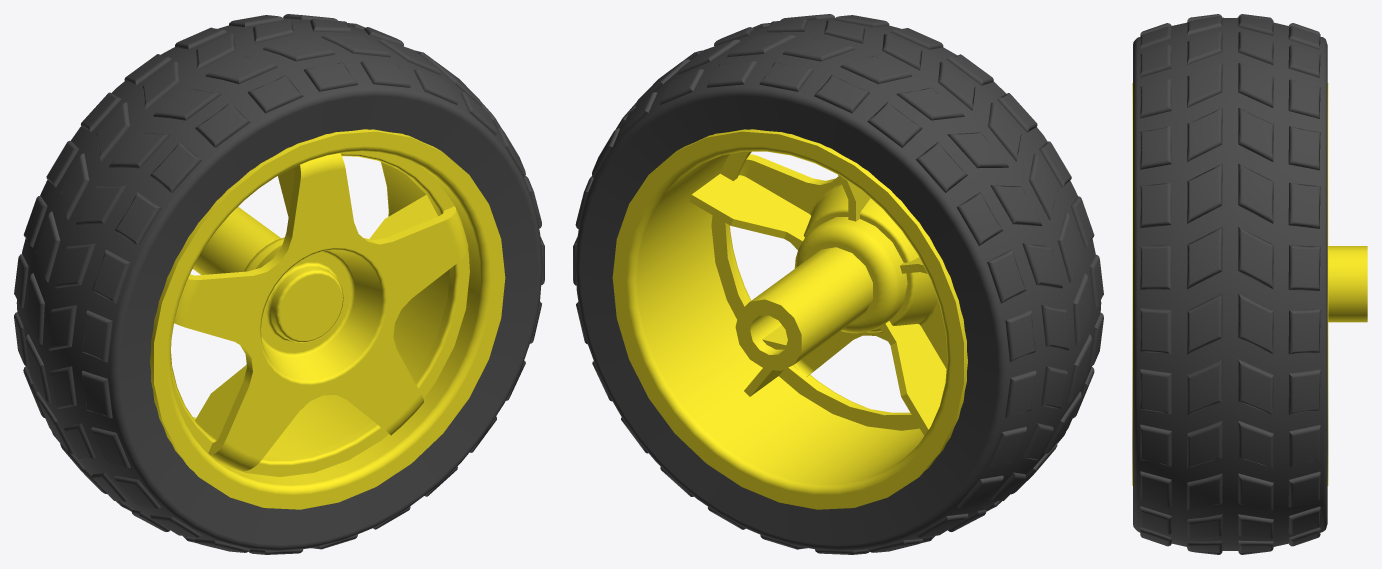
The model's file is wheel.obj.
3 views of the same model, side by side, from view 1: azimuth 30°, elevation 25°; view 2: azimuth 150°, elevation 25°; view 3: azimuth 270°, elevation 25° (orthographic).
Visible parts, largest first — view 1: mesh 2 ???????????????2, mesh 1 wheelbu; view 2: mesh 2 ???????????????2, mesh 1 wheelbu; view 3: mesh 2 ???????????????2, mesh 1 wheelbu.
Part boxes in pixels (x1,y1,x2,y2): mesh 2 ???????????????2: (14,14,544,554); mesh 1 wheelbu: (150,129,505,509); mesh 2 ???????????????2: (573,14,1103,554); mesh 1 wheelbu: (612,129,967,509); mesh 2 ???????????????2: (1133,14,1327,554); mesh 1 wheelbu: (1132,83,1367,485).
Bounding box in the file's own units: 0.0689 × 0.0688 × 0.03.
